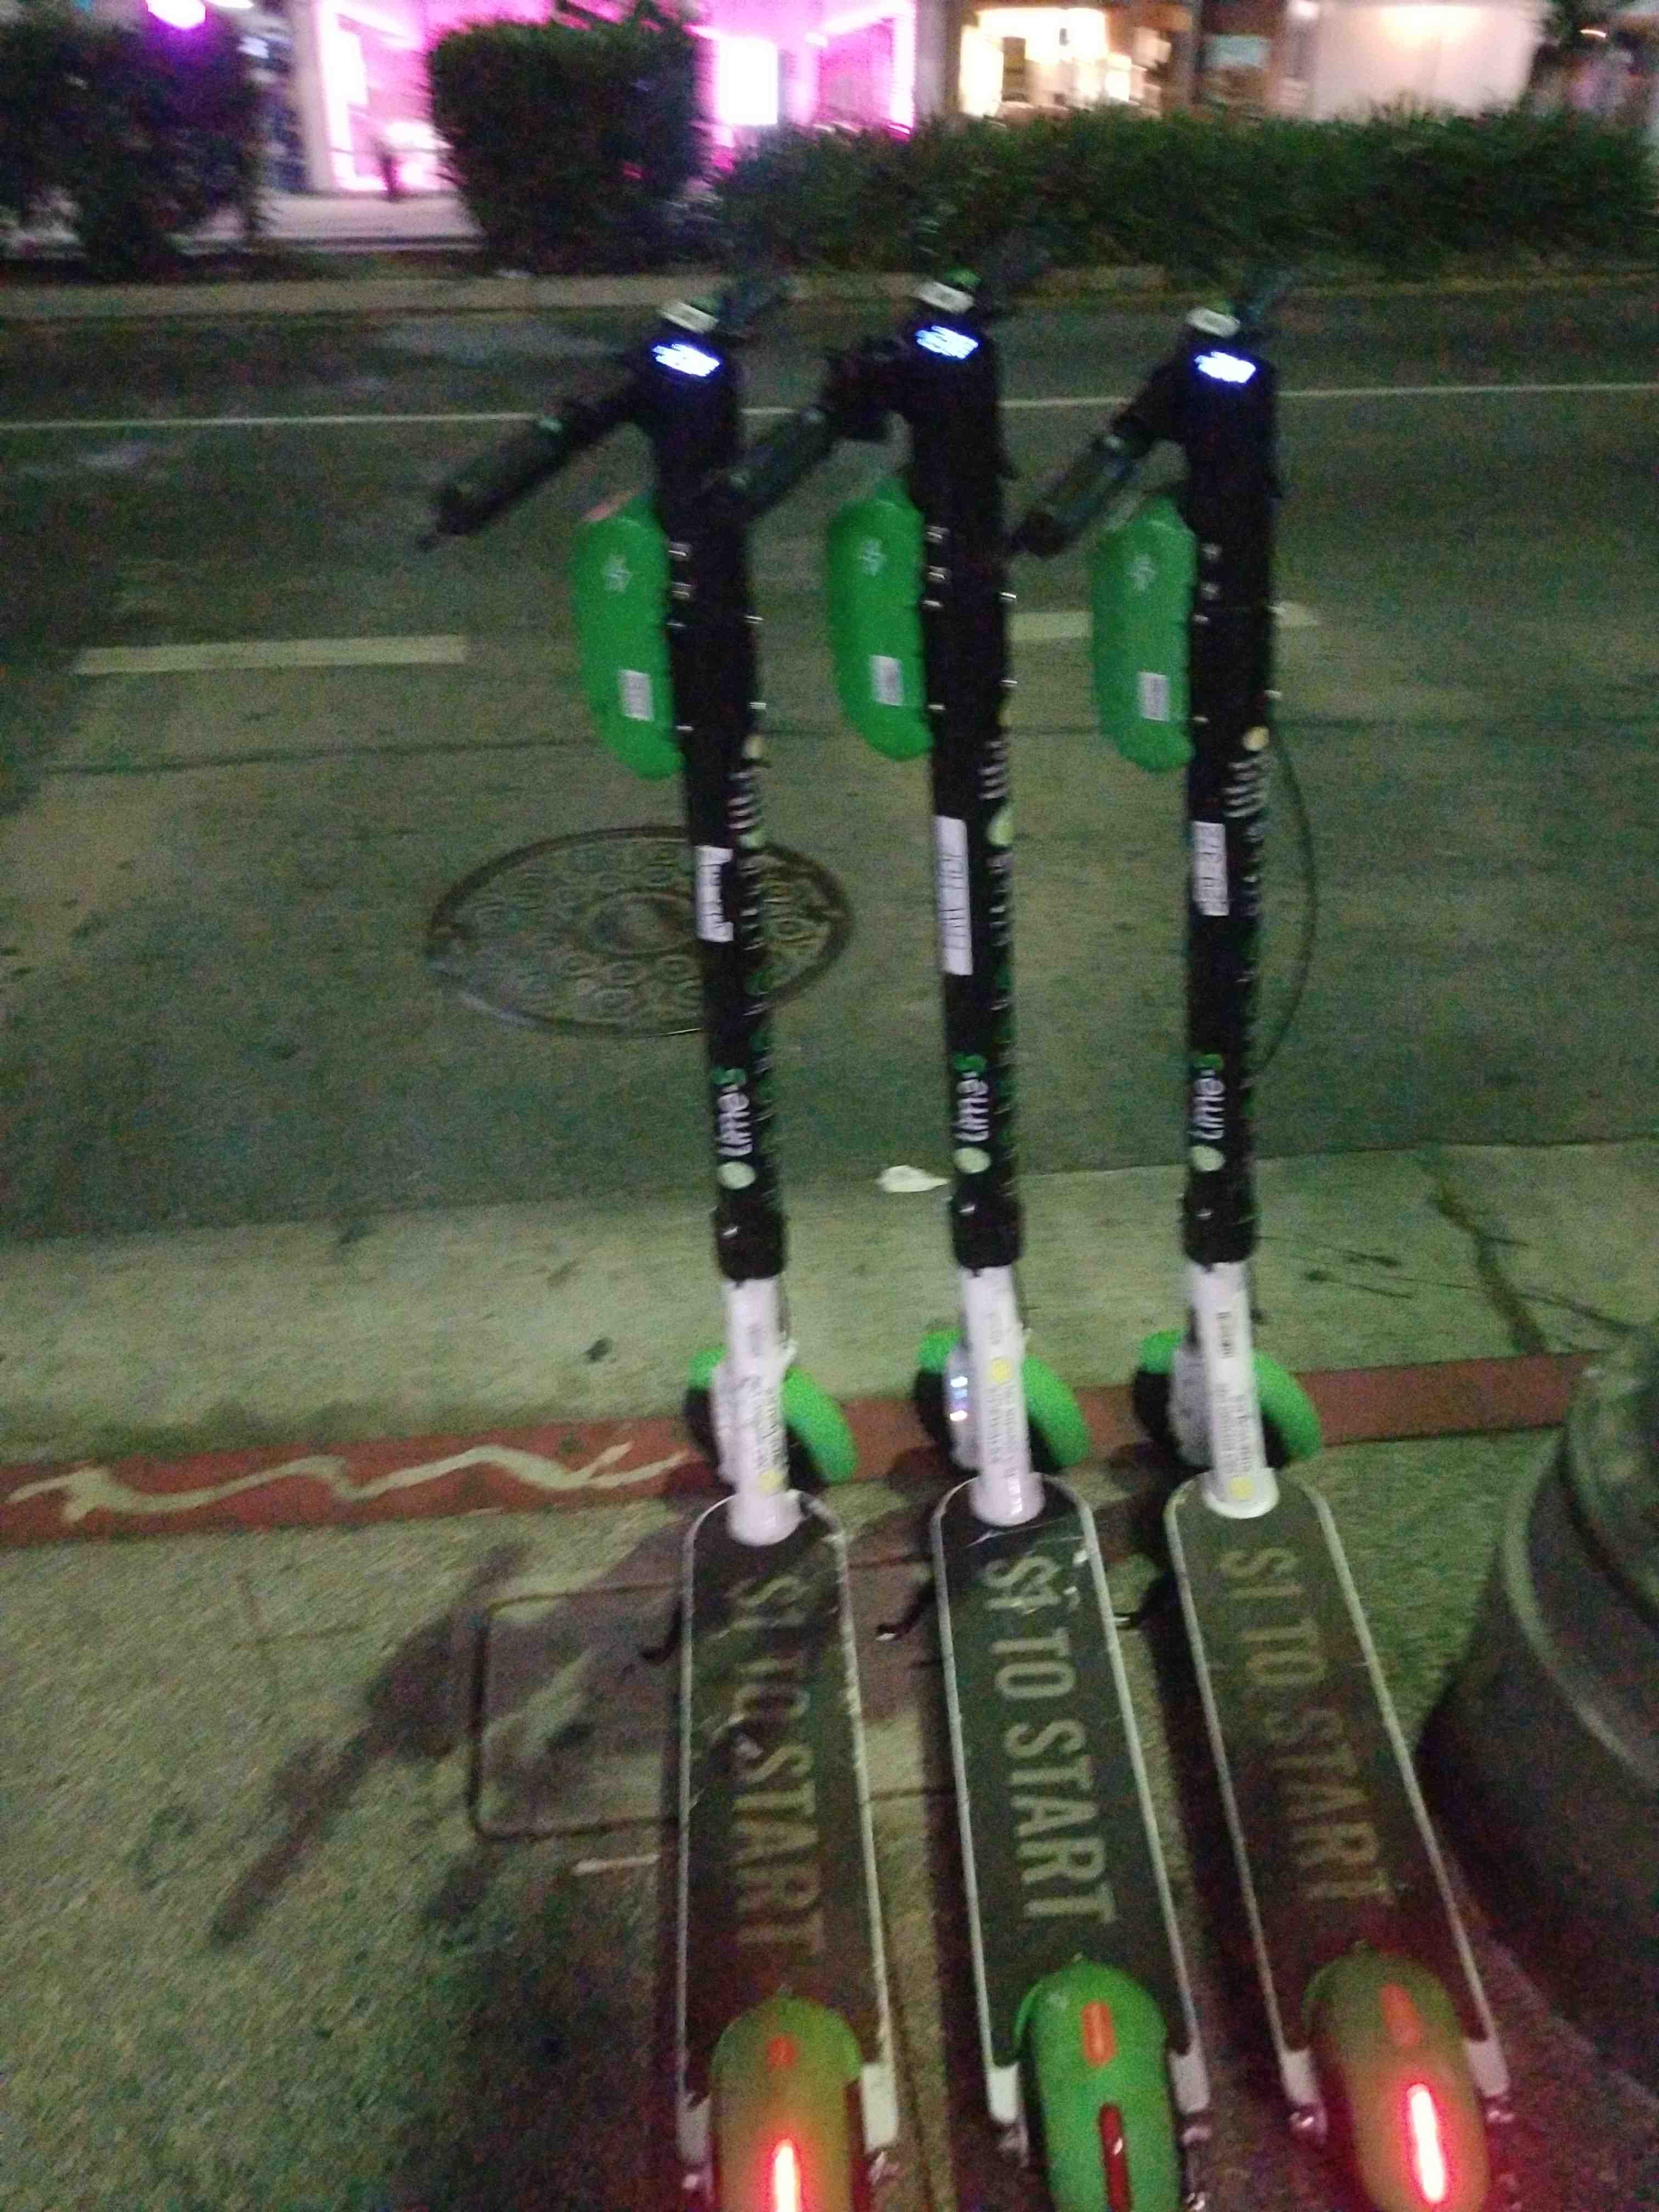too close: (863, 1298, 1129, 1559), (615, 1334, 903, 1569), (1093, 1294, 1377, 1522)
